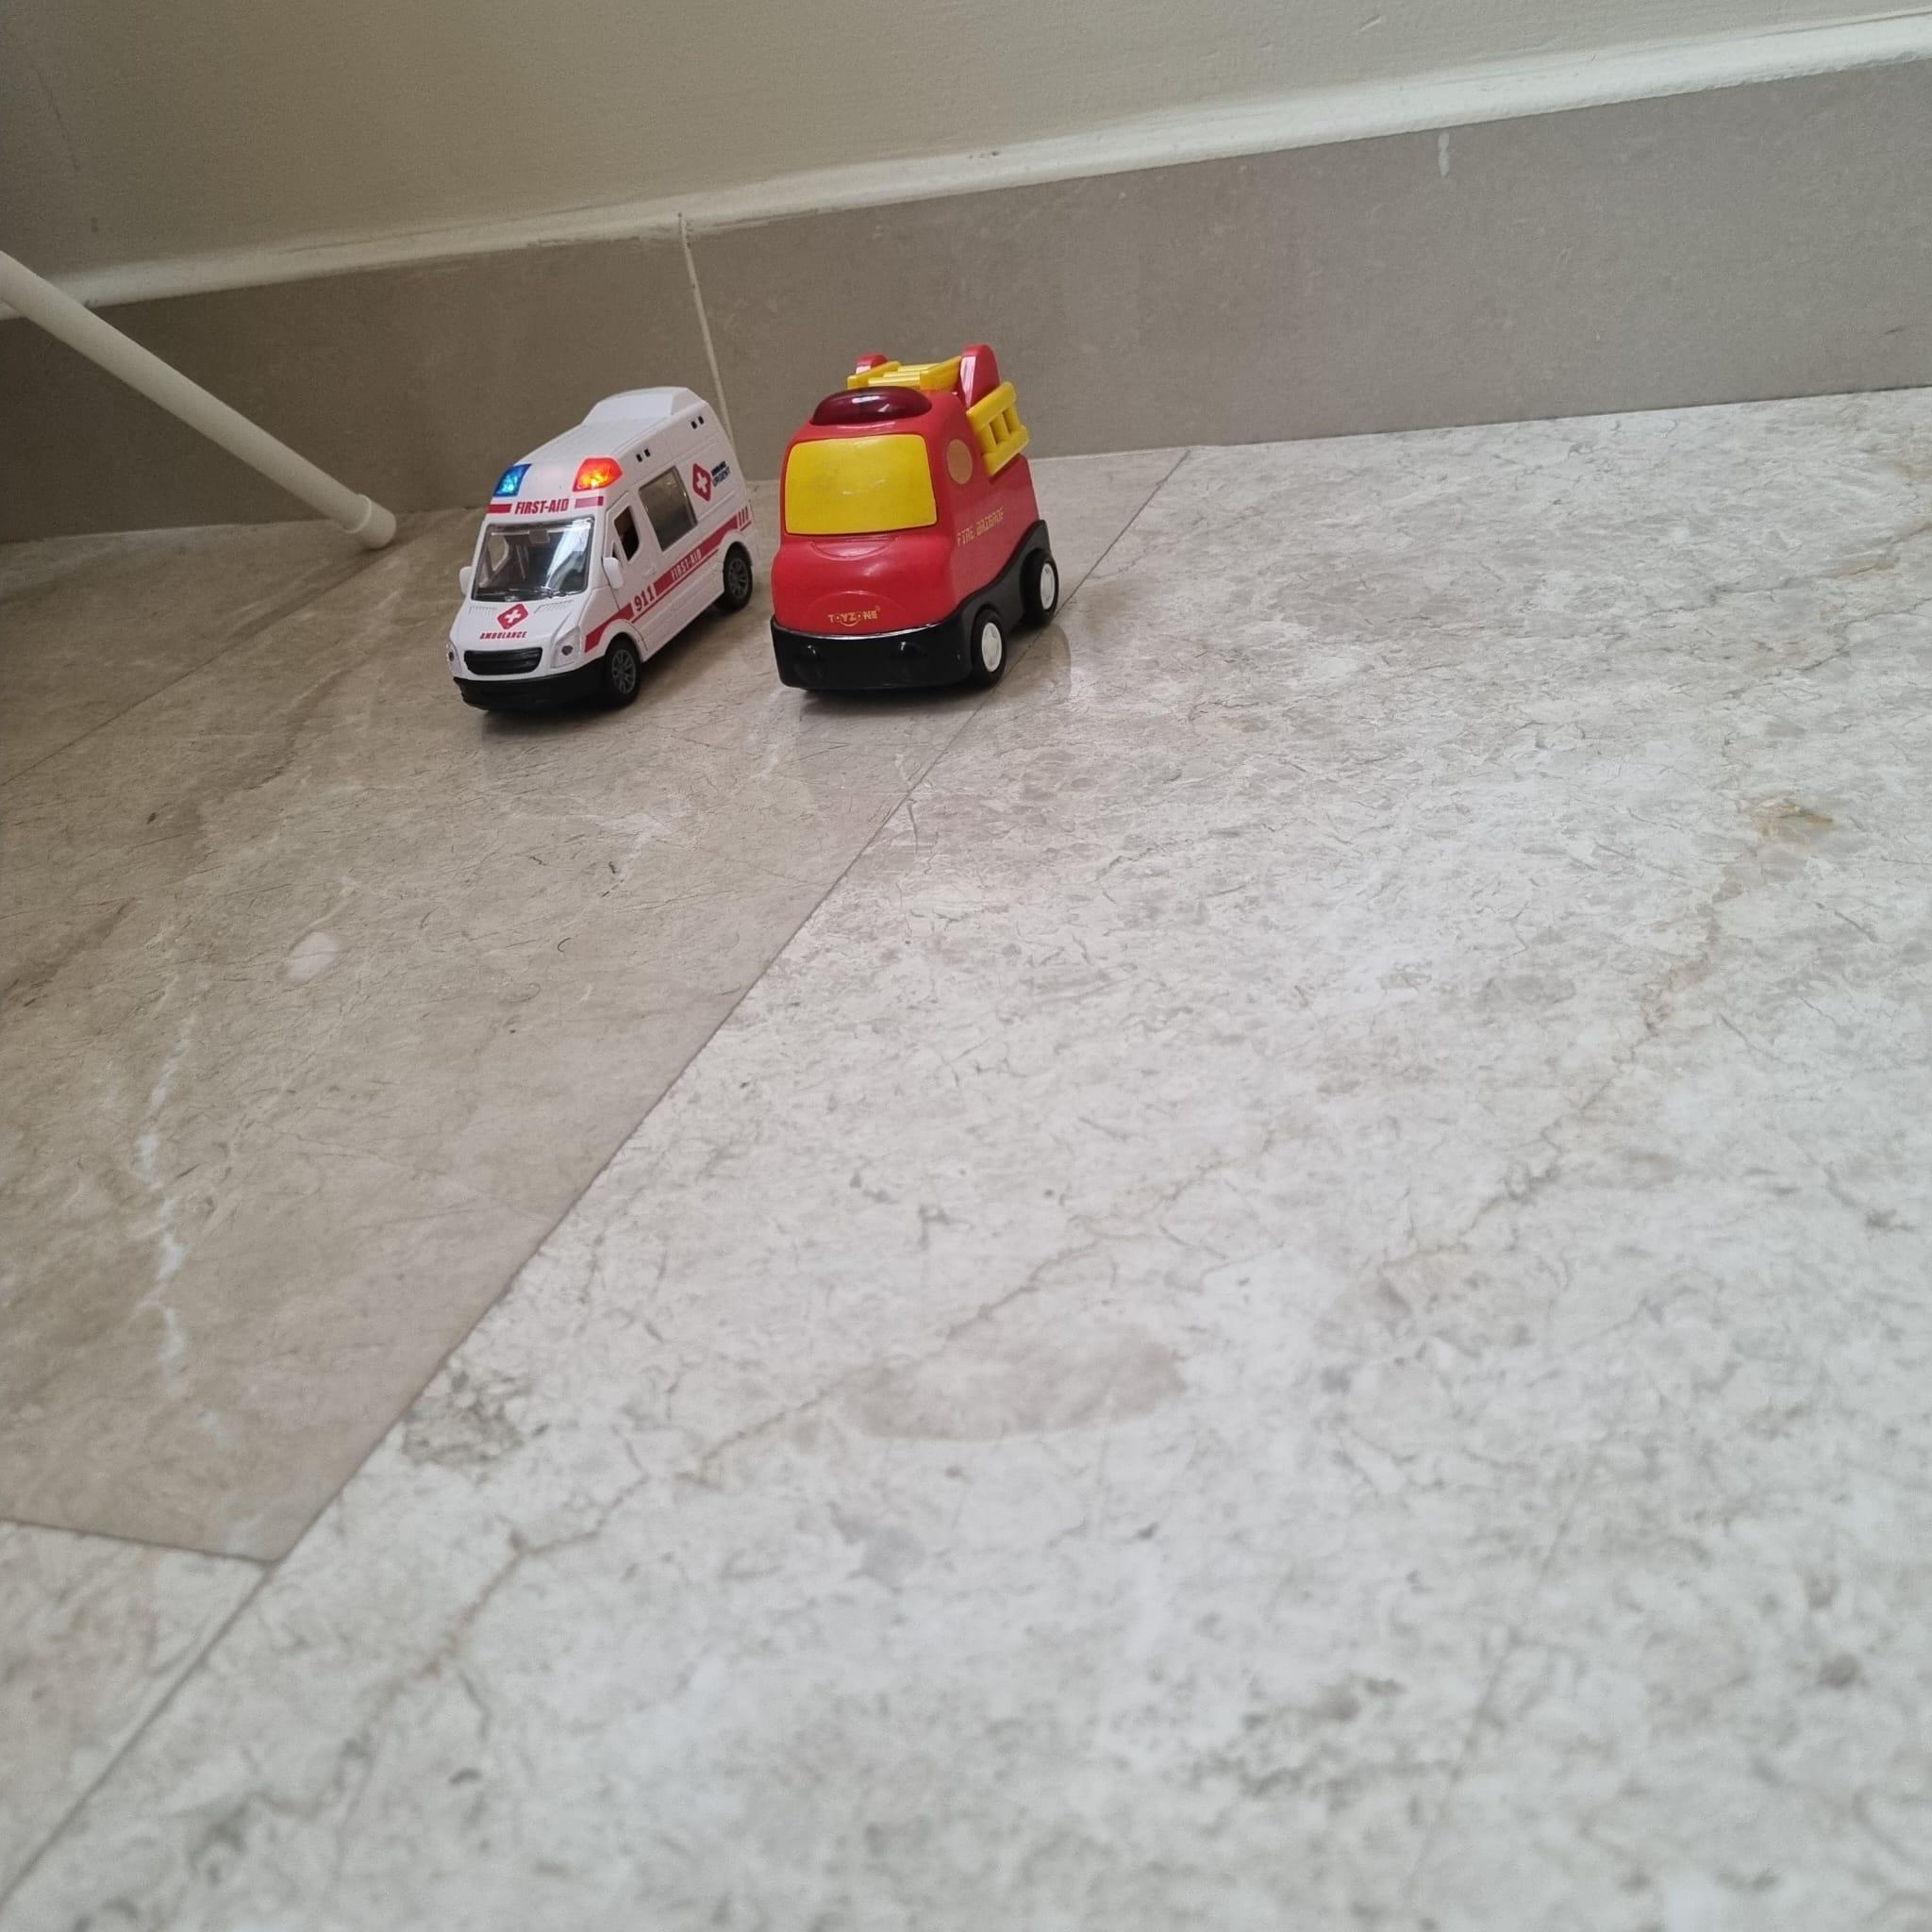ambulance_on: (444, 386, 752, 722)
firetruck_off: (770, 343, 1058, 697)
